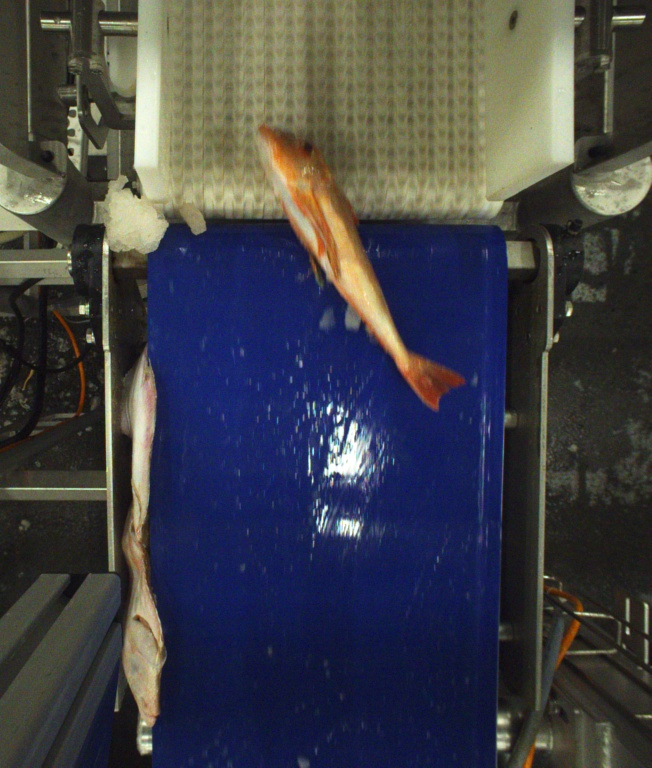GUU: (257, 126, 459, 410)
